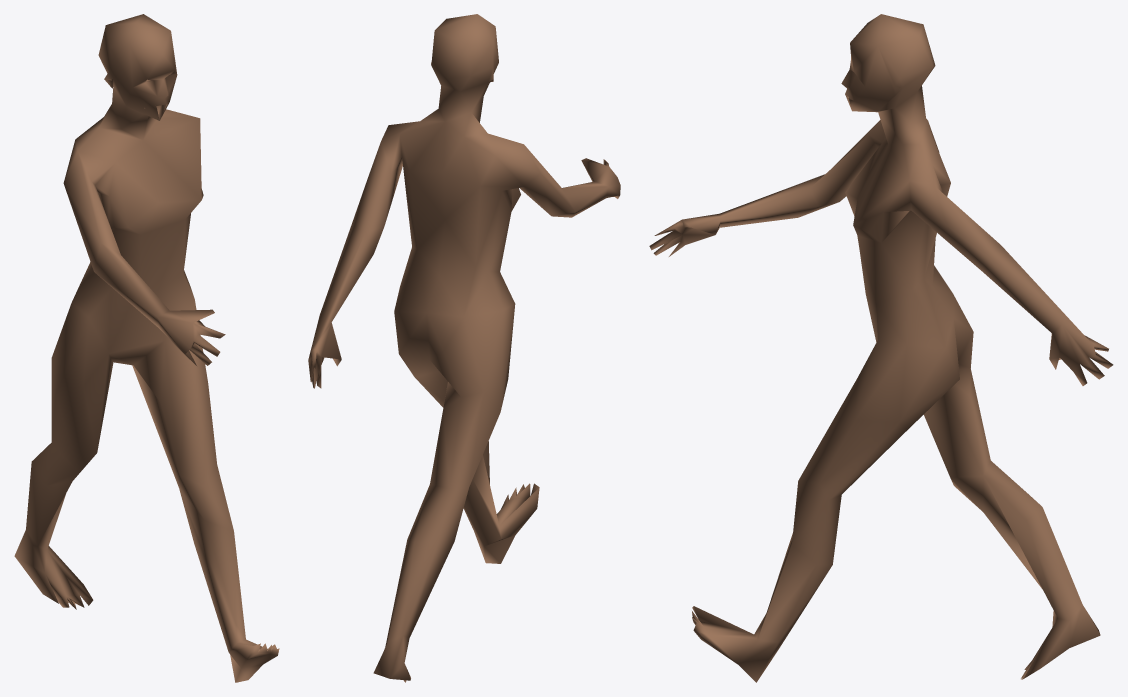
The model's file is obs_000055.obj.
3 views of the same model, side by side, from view 1: azimuth 30°, elevation 25°; view 2: azimuth 150°, elevation 25°; view 3: azimuth 270°, elevation 25° (orthographic). The views are drawn at different scales.
Parts seen in each view (by area): view 1: 1-base; view 2: 1-base; view 3: 1-base.
Part boxes in pixels (box(x1,y1,x2,y2)): 1-base: box(14, 14, 279, 682); 1-base: box(308, 14, 620, 682); 1-base: box(649, 14, 1113, 682).
Bounding box in the file's own units: 0.3624 × 1.45 × 0.9268.
